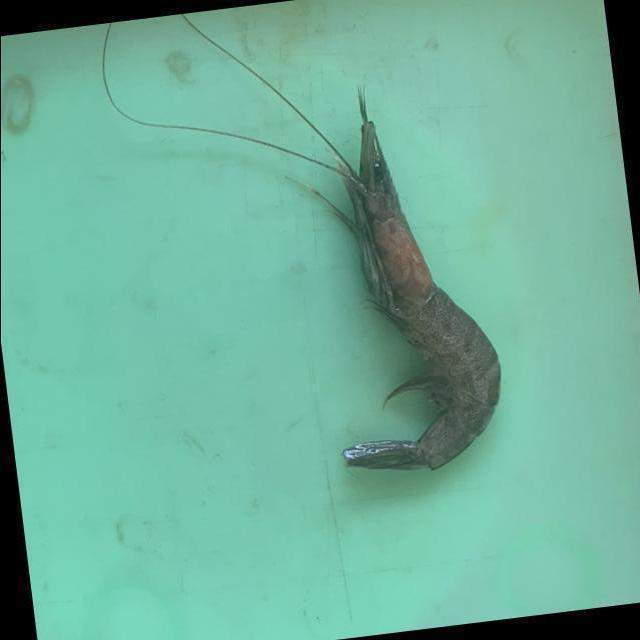shrimp: (344, 92, 501, 471)
